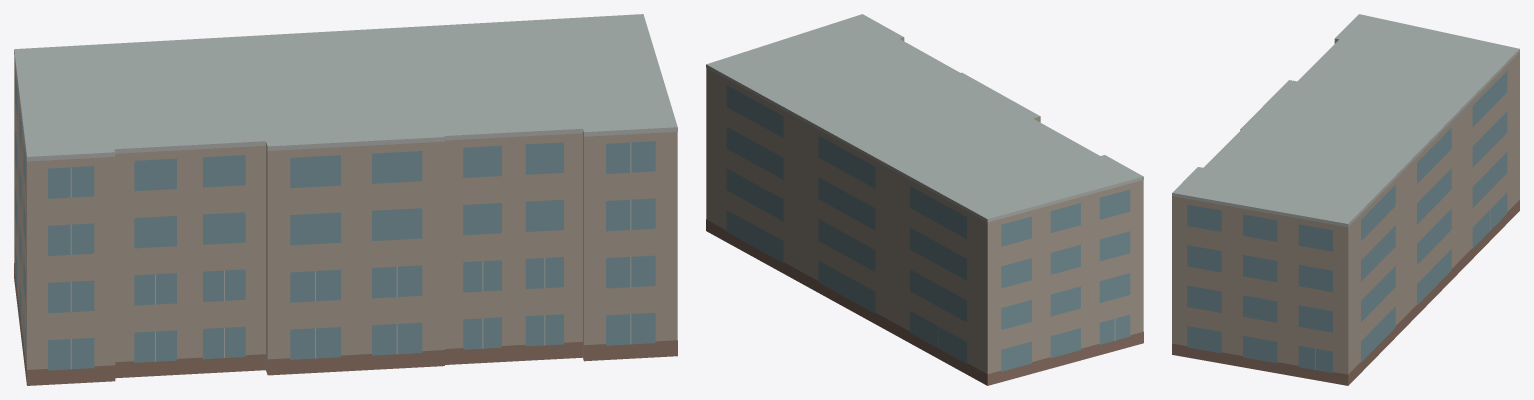
The model's file is survey-upis-32820986.glb.
The picture shows the model from 3 angles, left to right: view 1: azimuth 30°, elevation 25°; view 2: azimuth 150°, elevation 25°; view 3: azimuth 270°, elevation 25°; orthographic projection. The views are drawn at different scales.
Parts seen in each view (by area): view 1: survey-upis-32820986.tmp; view 2: survey-upis-32820986.tmp; view 3: survey-upis-32820986.tmp.
Part boxes in pixels (<box>): survey-upis-32820986.tmp: <box>14,14,677,385</box>; survey-upis-32820986.tmp: <box>706,14,1143,385</box>; survey-upis-32820986.tmp: <box>1172,14,1519,385</box>.
Size of the model in its own units: 34.52 by 12.4 by 24.16.
